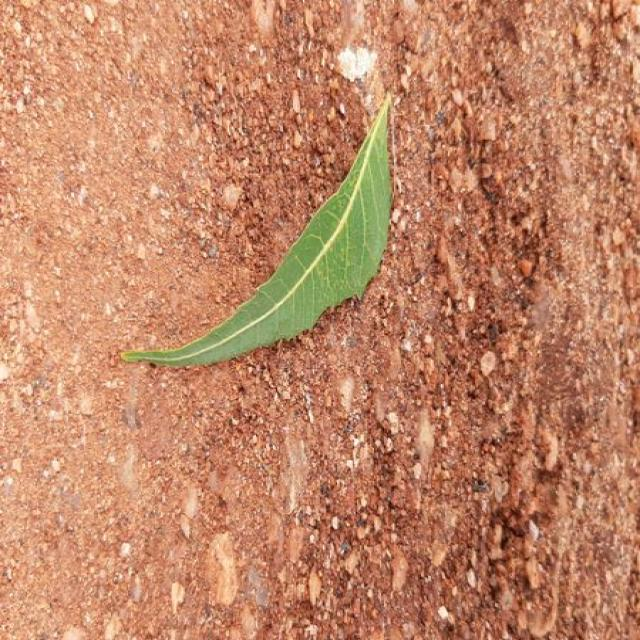neem: (122, 96, 390, 366)
